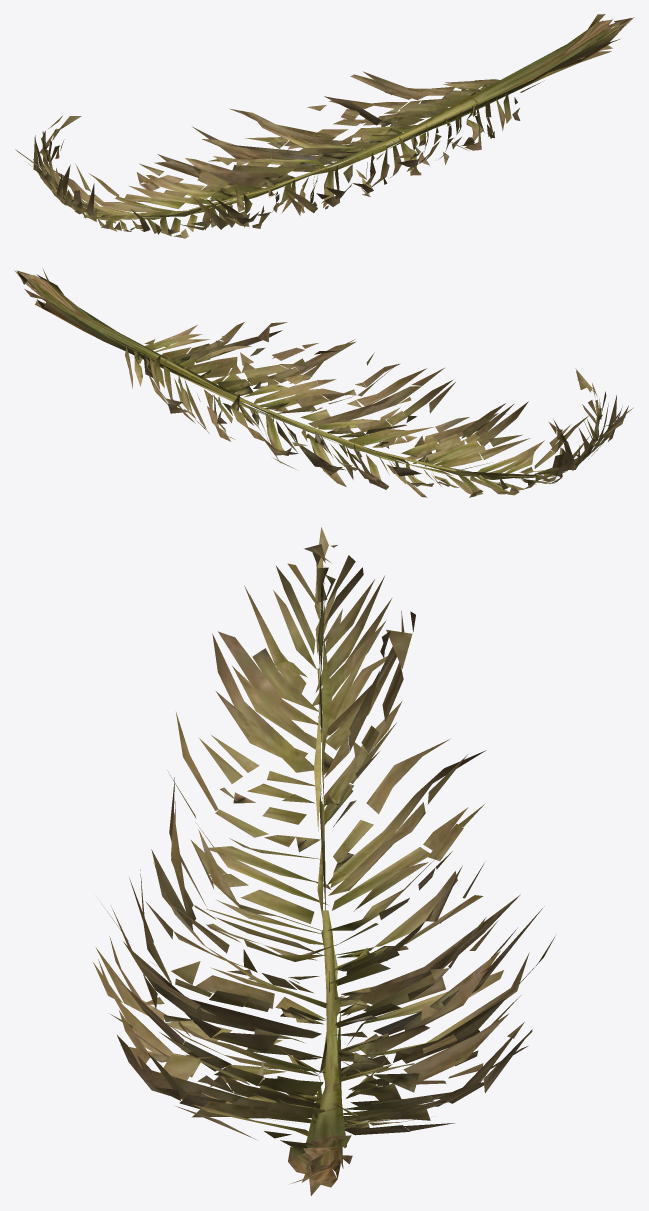
The model's file is palm_frond_dry.glb.
3 renders of one model, top to bottom at view 1: azimuth 30°, elevation 25°; view 2: azimuth 150°, elevation 25°; view 3: azimuth 270°, elevation 25°, orthographic. The views are drawn at different scales.
Parts seen in each view (by area): view 1: Mesh_0; view 2: Mesh_0; view 3: Mesh_0.
Part boxes in pixels (x1,y1,x2,y2): Mesh_0: [15, 14, 634, 238]; Mesh_0: [14, 268, 633, 497]; Mesh_0: [93, 527, 556, 1195].
Bounding box in the file's own units: 0.9509 × 0.1998 × 0.3097.
Materials: 1 (1 with a texture image).
